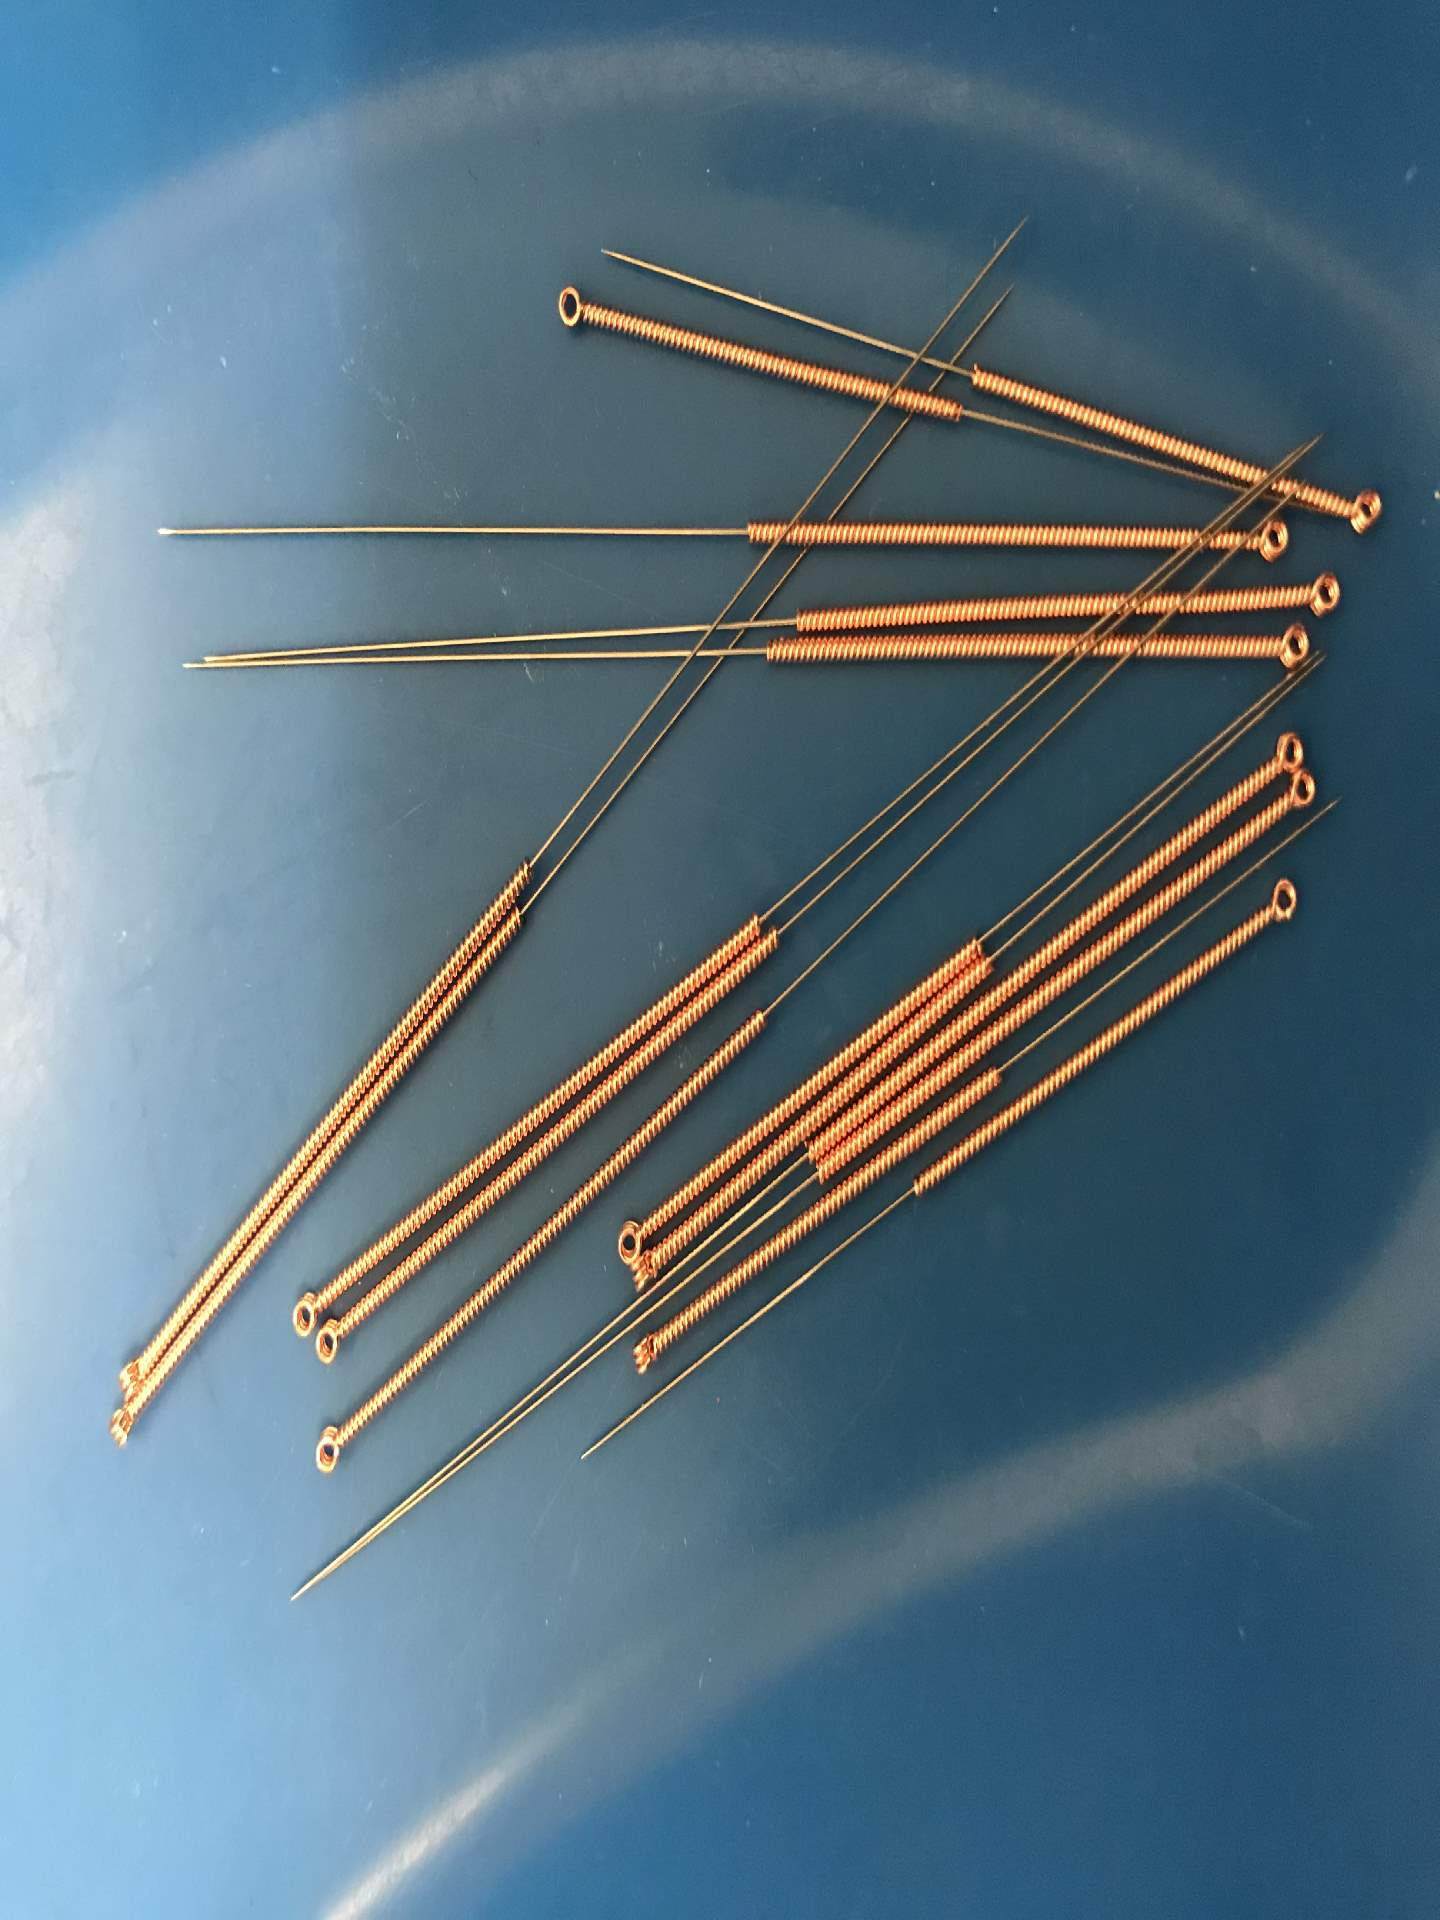needle: (538, 274, 604, 345), (1330, 478, 1395, 544), (301, 1417, 358, 1488), (1262, 618, 1324, 680), (98, 1391, 150, 1460), (1240, 508, 1298, 570), (1292, 562, 1349, 624), (1255, 714, 1311, 776), (619, 1324, 672, 1389), (1255, 868, 1305, 930), (107, 1342, 154, 1403), (309, 1315, 352, 1376), (281, 1281, 324, 1342), (629, 1256, 678, 1305), (1283, 766, 1330, 816), (607, 1206, 644, 1267)
